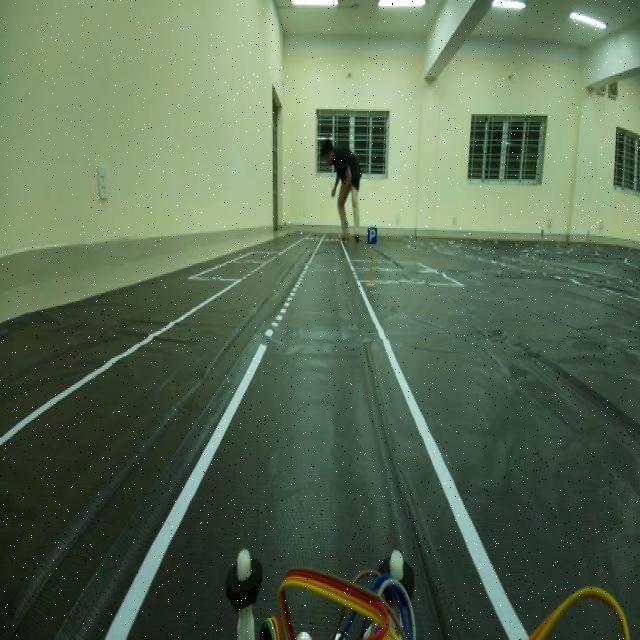parking: (364, 220, 382, 252)
